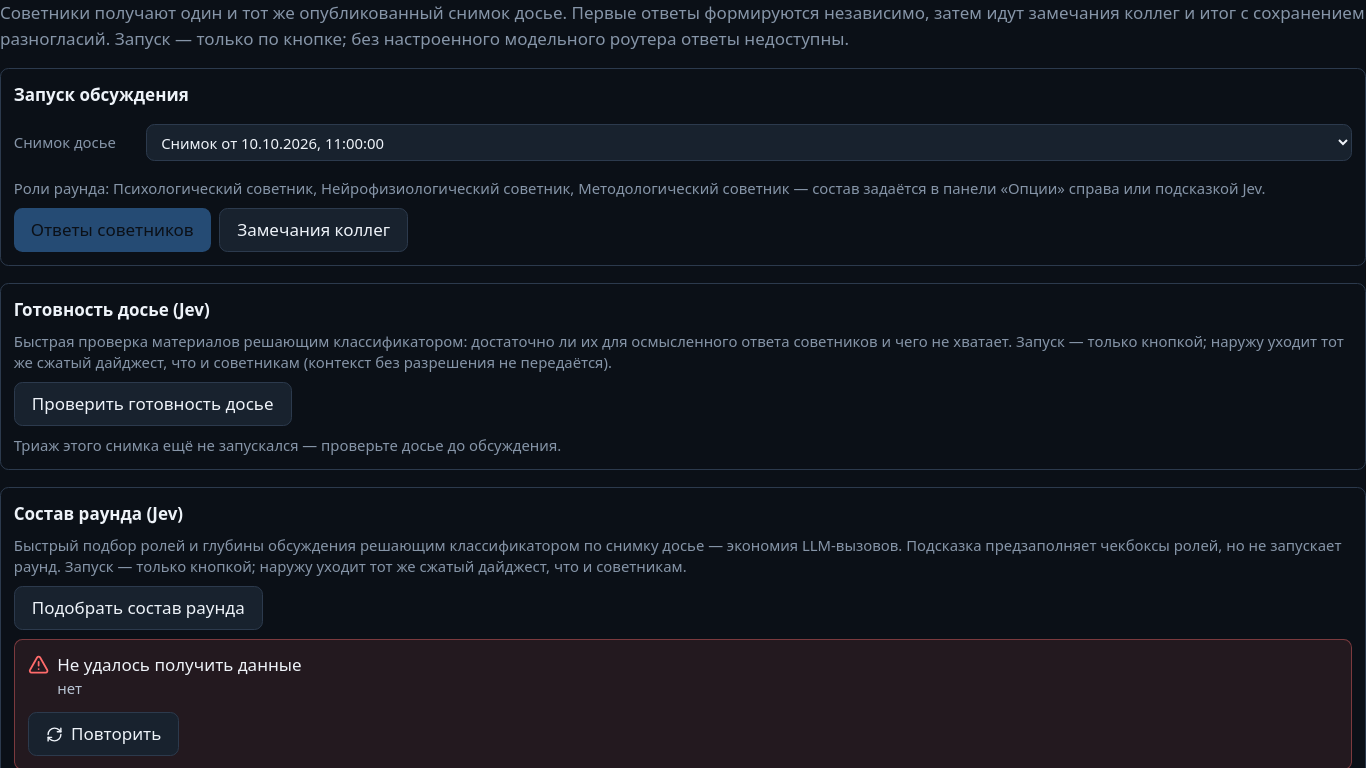
Test: CaseDiscussion › триаж: кнопка запускает проверку и карточка показывает решения
Expected: the text "Триаж этого снимка ещё не запускался" is shown, [14, 435, 561, 455]
Click the button "Проверить готовность досье": (153, 404) [14, 382, 292, 426]
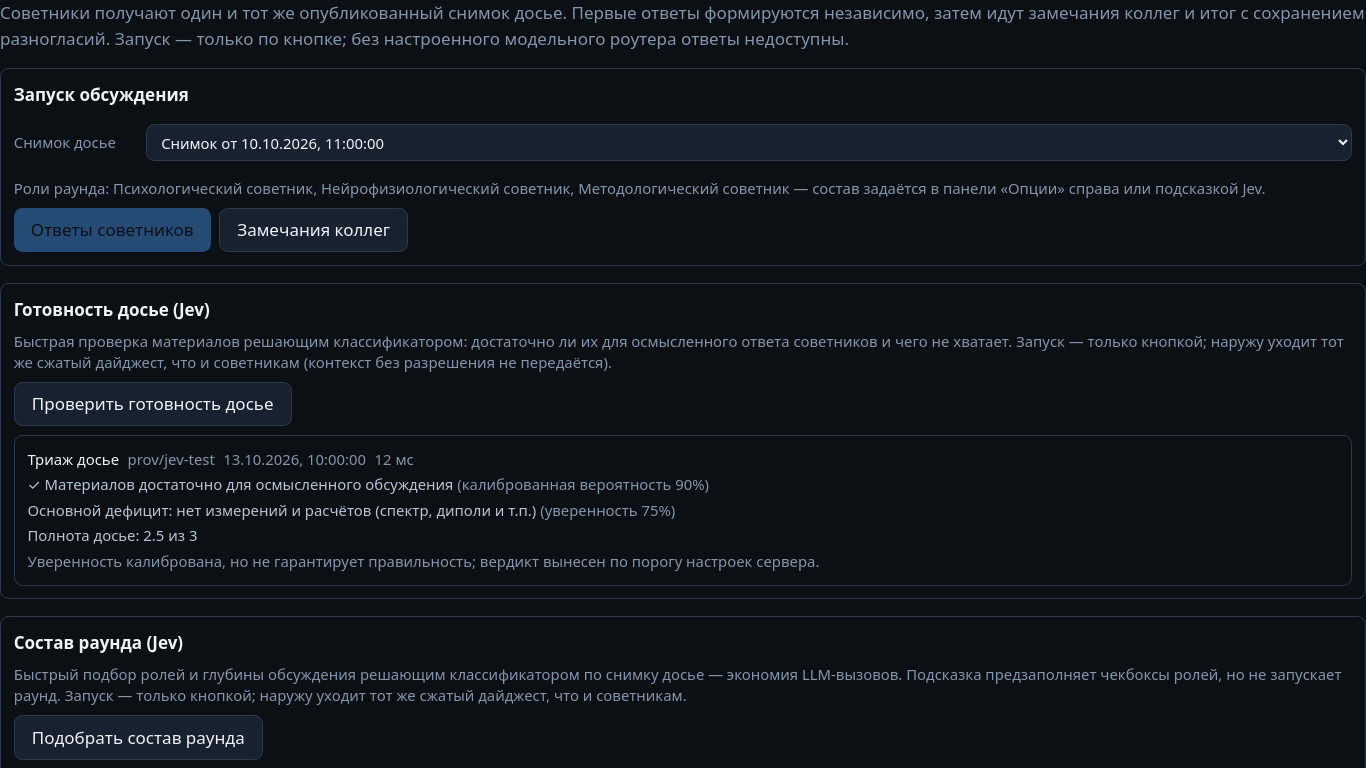
Now the text "Материалов достаточно" is shown, box [28, 474, 453, 494]
Now the text "нет измерений и расчётов" is shown, box [176, 500, 536, 520]
Now the text "не гарантирует правильность" is shown, box [28, 550, 819, 570]
